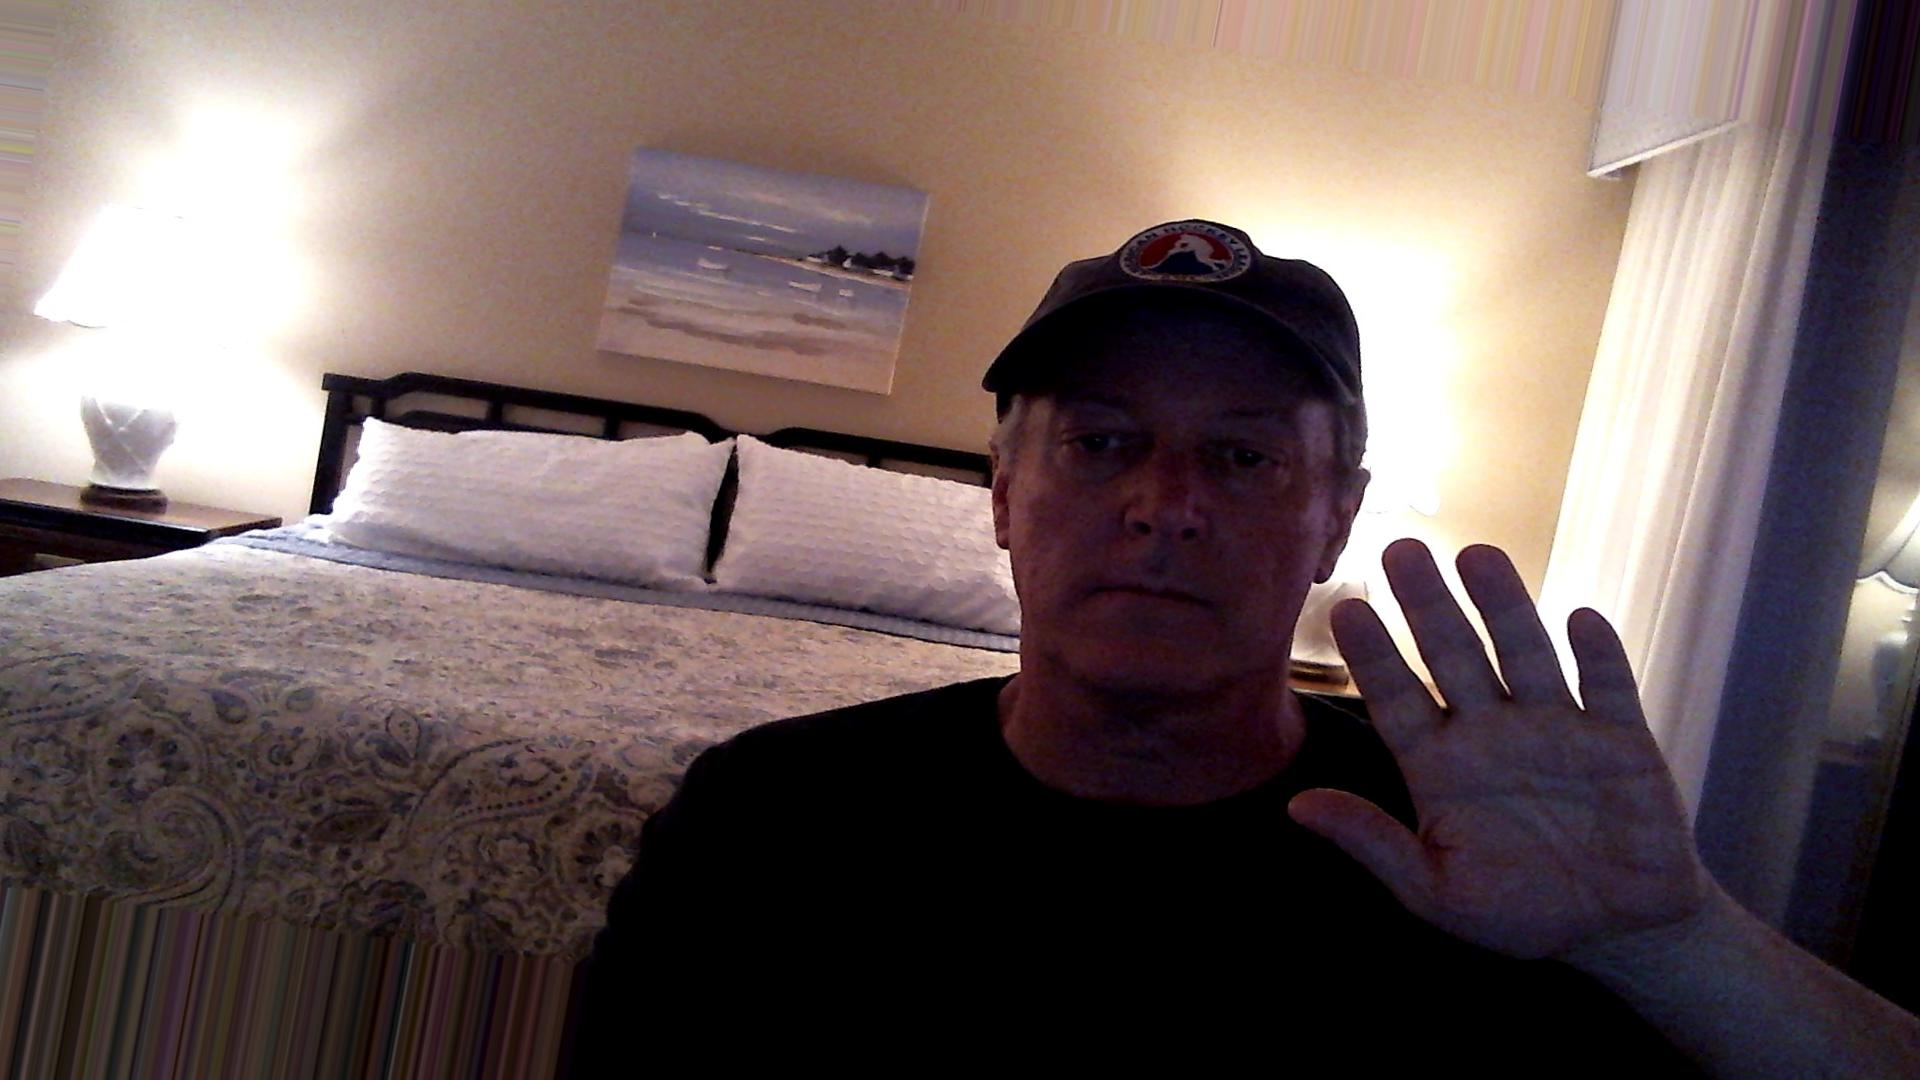Hello: (1263, 527, 1793, 978)
